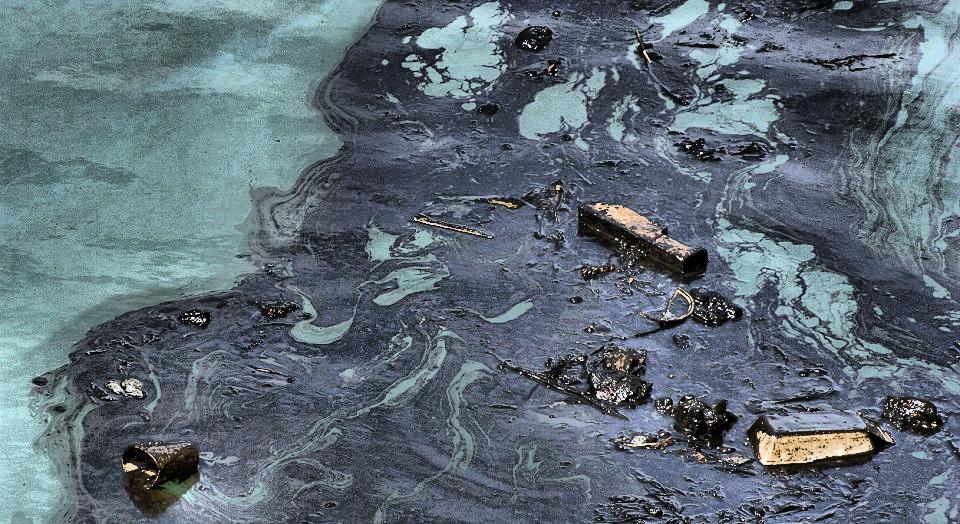sheen: (0, 0, 381, 524), (845, 1, 960, 284), (717, 164, 872, 360), (674, 2, 781, 134), (417, 1, 511, 96), (520, 67, 607, 138)
truecolor: (60, 63, 616, 522)
